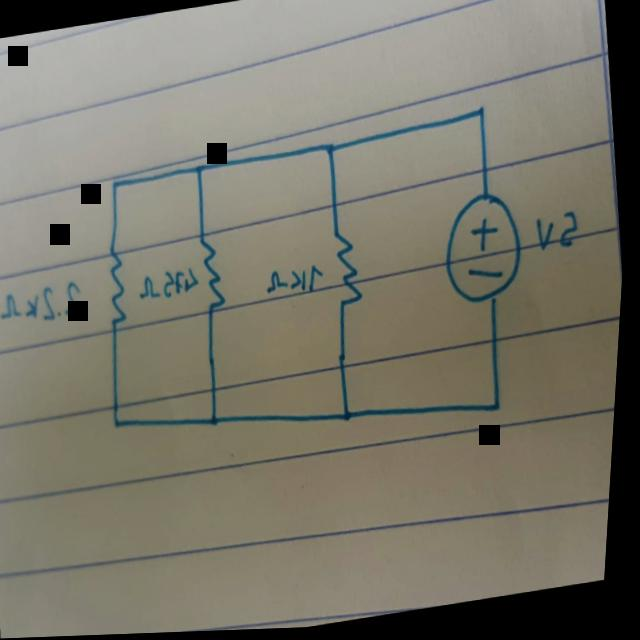junction: (210, 412, 225, 432), (325, 137, 338, 158), (193, 160, 208, 177), (475, 104, 488, 123), (110, 172, 123, 191), (345, 406, 357, 426), (494, 400, 508, 417), (116, 412, 127, 429)
resistor: (330, 227, 373, 314), (193, 231, 236, 317), (101, 241, 137, 326)
source: (441, 190, 532, 306)
text: (0, 273, 90, 333), (137, 261, 206, 305), (531, 203, 585, 258), (261, 261, 330, 304)
